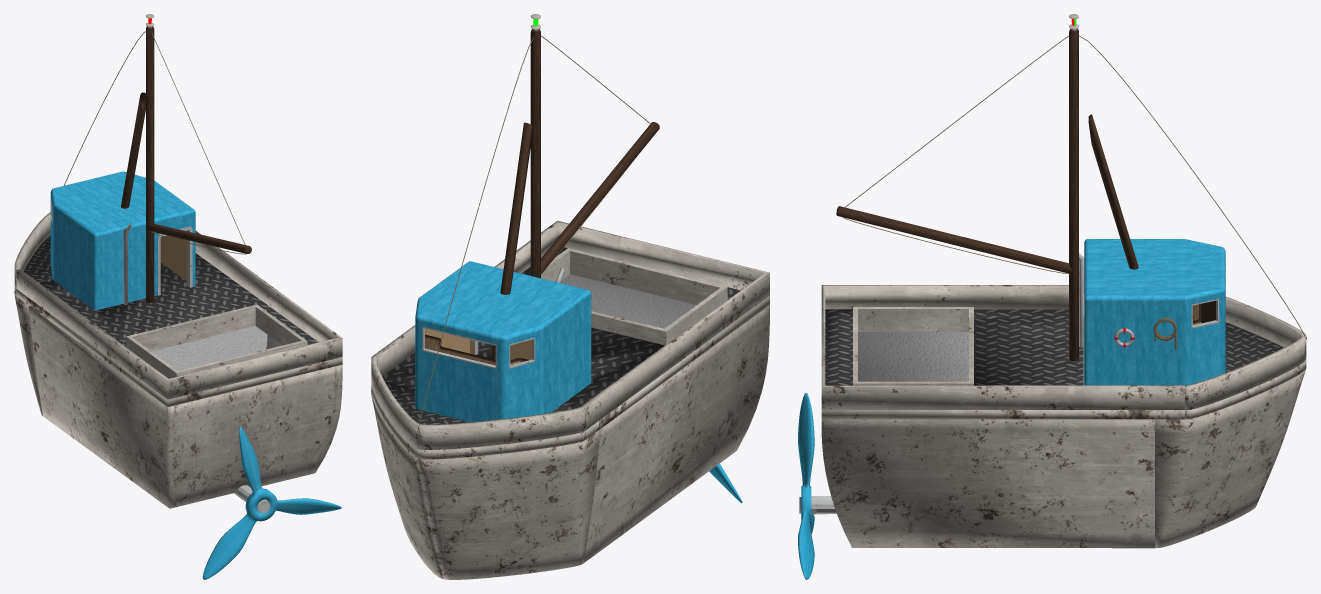
The model's file is BoatTEXTURED.gltf.
3 views of the same model, side by side, from view 1: azimuth 30°, elevation 25°; view 2: azimuth 150°, elevation 25°; view 3: azimuth 270°, elevation 25° (orthographic). The views are drawn at different scales.
Parts seen in each view (by area): view 1: BézierCurve.005, BézierCurve.001, Cube.013, Cube.004, Sphere, Cube.017, Cube.015, Cylinder, Cube, Cylinder.002, Cylinder.003, Cube.007 (+5 smaller); view 2: Sphere, BézierCurve.001, Cube.007, Cube.013, Cube.017, Cube.004, BézierCurve.012, Cube.006, BézierCurve.003, BézierCurve.005, Cylinder.002, Cylinder.004 (+4 smaller); view 3: BézierCurve.006, Sphere, Cube.013, Cube.006, Cube.004, BézierCurve.001, BézierCurve.012, Cube.017, Cylinder.002, BézierCurve.003, Cylinder.004, Cylinder (+2 smaller).
Part boxes in pixels (x1,y1,x2,y2): BézierCurve.005: [172, 366, 335, 506]; BézierCurve.001: [28, 306, 176, 508]; Cube.013: [16, 231, 342, 399]; Cube.004: [16, 253, 342, 406]; Sphere: [50, 171, 195, 310]; Cube.017: [126, 304, 307, 378]; Cube.015: [97, 213, 193, 309]; Cylinder: [202, 427, 341, 579]; Cube: [152, 326, 267, 370]; Cylinder.002: [146, 26, 154, 302]; Cylinder.003: [121, 92, 145, 208]; Cube.007: [14, 291, 42, 415]; Sphere: [415, 261, 591, 422]; BézierCurve.001: [584, 305, 769, 562]; Cube.007: [418, 429, 600, 579]; Cube.013: [374, 220, 769, 429]; Cube.017: [541, 248, 727, 345]; Cube.004: [382, 247, 769, 439]; BézierCurve.012: [371, 355, 585, 449]; Cube.006: [371, 390, 443, 578]; BézierCurve.003: [371, 381, 585, 459]; BézierCurve.005: [563, 274, 696, 328]; Cylinder.002: [530, 29, 540, 278]; Cylinder.004: [540, 122, 659, 274]; BézierCurve.006: [821, 419, 1154, 548]; Sphere: [1084, 239, 1225, 385]; Cube.013: [821, 285, 1184, 409]; Cube.006: [1155, 368, 1306, 548]; Cube.004: [821, 309, 1184, 419]; BézierCurve.001: [858, 332, 968, 381]; BézierCurve.012: [1185, 296, 1306, 409]; Cube.017: [853, 307, 973, 385]; Cylinder.002: [1069, 29, 1078, 360]; BézierCurve.003: [1185, 322, 1306, 419]; Cylinder.004: [836, 206, 1072, 273]; Cylinder: [798, 393, 814, 579].
Size of what is drawn, in the model's own units: 6.01 by 15.37 by 12.61.
Materials: 19 (16 with a texture image).
